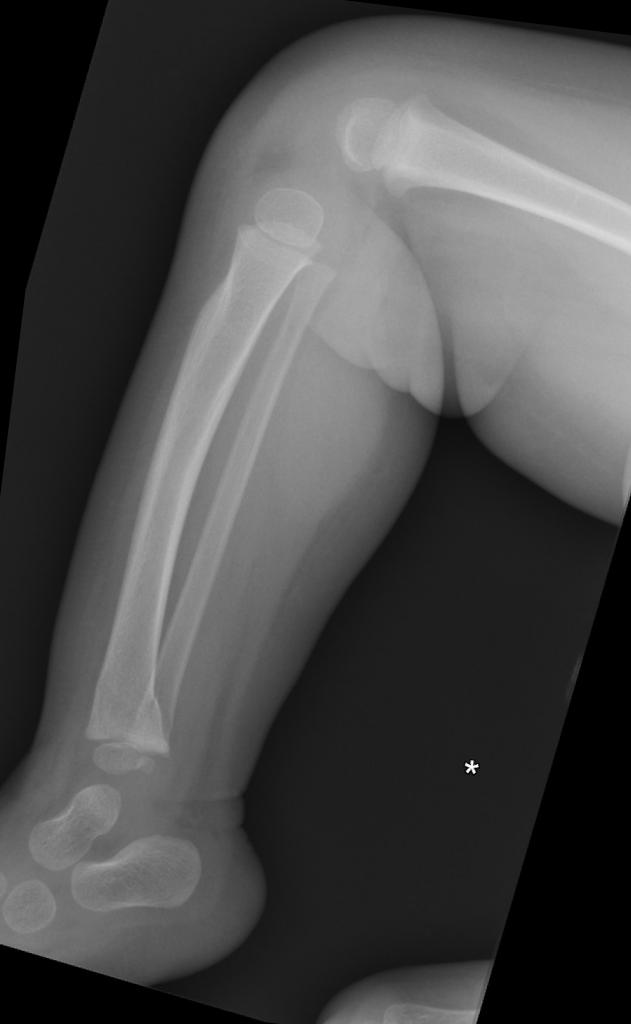line: (137, 690, 159, 719)
